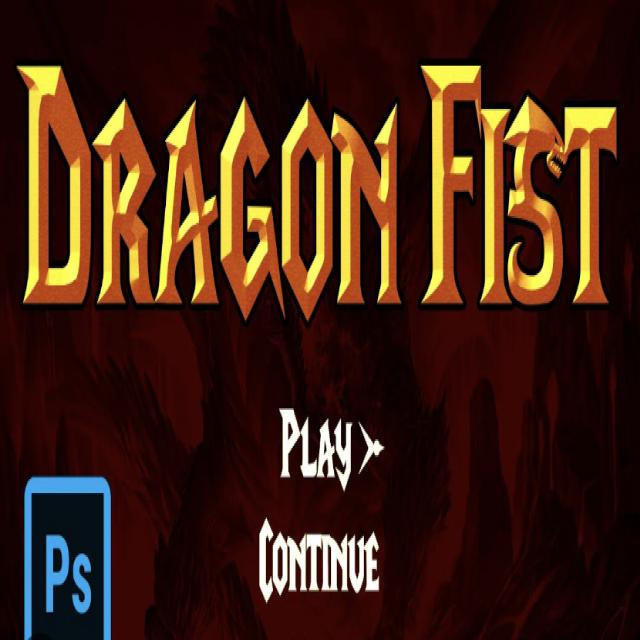Start-button: (273, 393, 368, 491)
